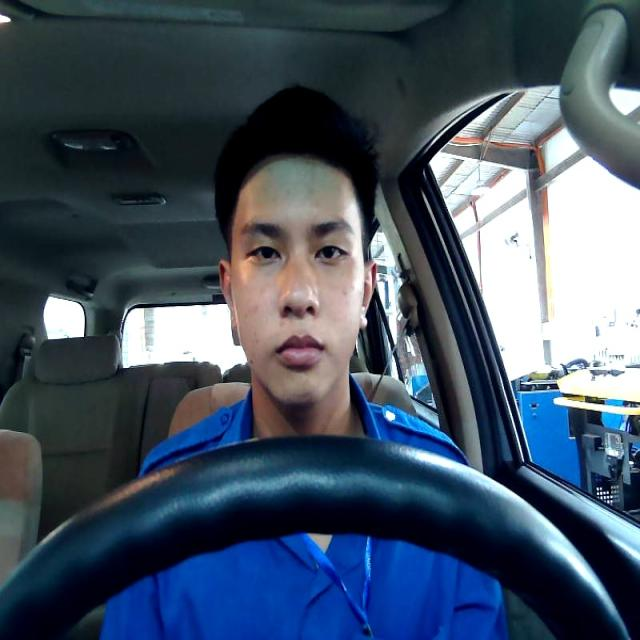focused: (219, 157, 378, 410)
